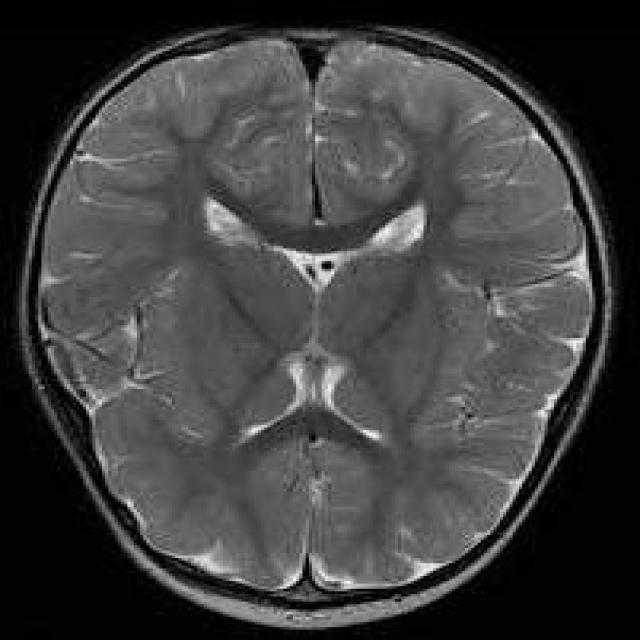notumor: (19, 28, 611, 627)
